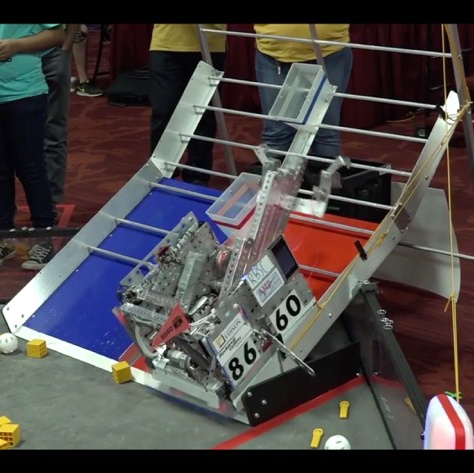robot: (117, 148, 356, 414)
